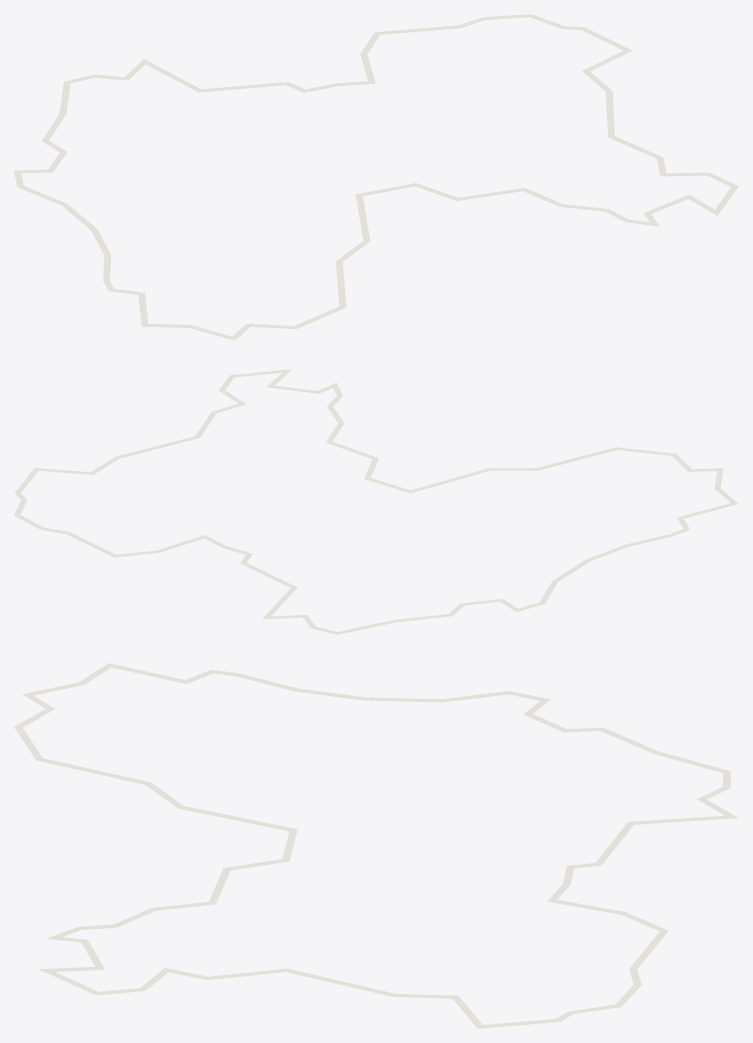
3 renders of one model, top to bottom at view 1: azimuth 30°, elevation 25°; view 2: azimuth 150°, elevation 25°; view 3: azimuth 270°, elevation 25°, orthographic. The views are drawn at different scales.
Visible parts, largest first — view 1: Map_rivers.001; view 2: Map_rivers.001; view 3: Map_rivers.001.
Boxes of the visible parts, x1,y1,x2,y2 form: Map_rivers.001: (14,14,738,340); Map_rivers.001: (14,369,738,634); Map_rivers.001: (14,663,738,1028).
Bounding box in the file's own units: 1.16 × 9.48e-07 × 0.9696.
1 material, 1 textured.
